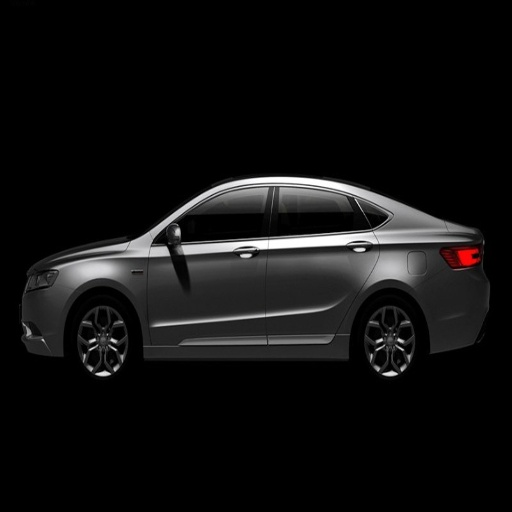back_left_door: (266, 185, 377, 343)
front_left_door: (148, 186, 273, 344)
